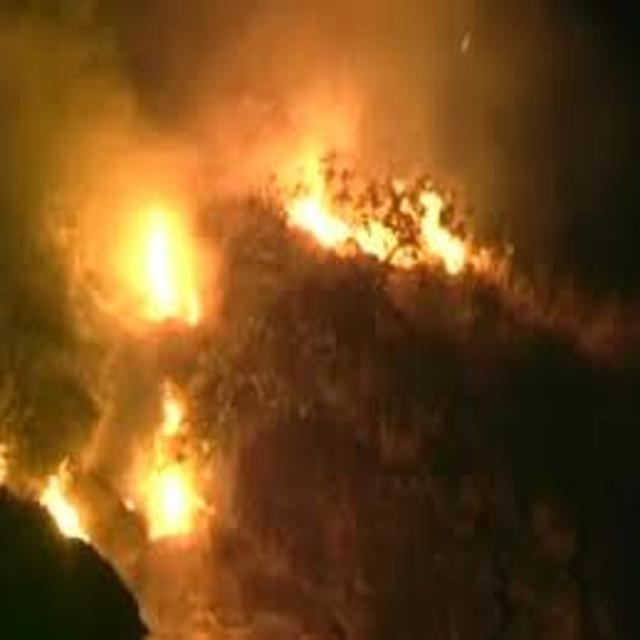Fire: (260, 131, 483, 284), (142, 378, 225, 548), (116, 188, 209, 334), (34, 452, 102, 554)
Smoke: (0, 3, 257, 185), (258, 0, 588, 132), (0, 184, 116, 448)
